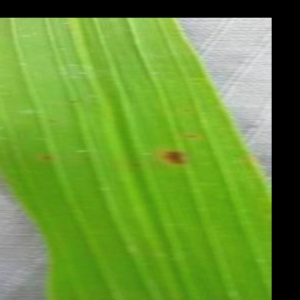Bacterial_Leaf_Blight: (158, 147, 190, 169), (39, 152, 57, 163), (65, 96, 83, 107), (179, 104, 193, 117), (184, 132, 201, 142), (127, 160, 142, 170), (45, 116, 58, 126)
